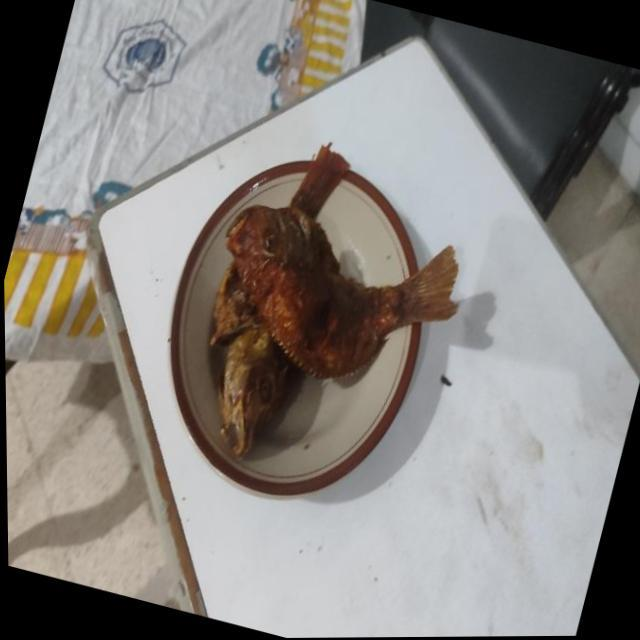ikan_mujair: (208, 143, 349, 460), (227, 202, 458, 378)
